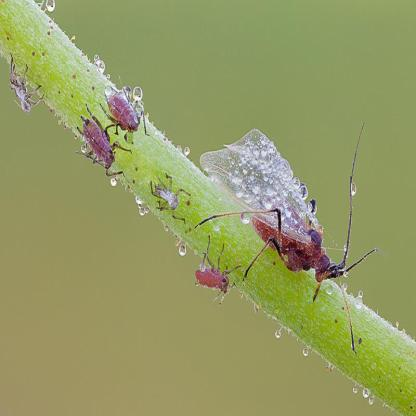aphid: (213, 127, 364, 327), (76, 109, 128, 184), (193, 232, 242, 310), (142, 167, 194, 225), (102, 82, 147, 144), (8, 57, 44, 117)
